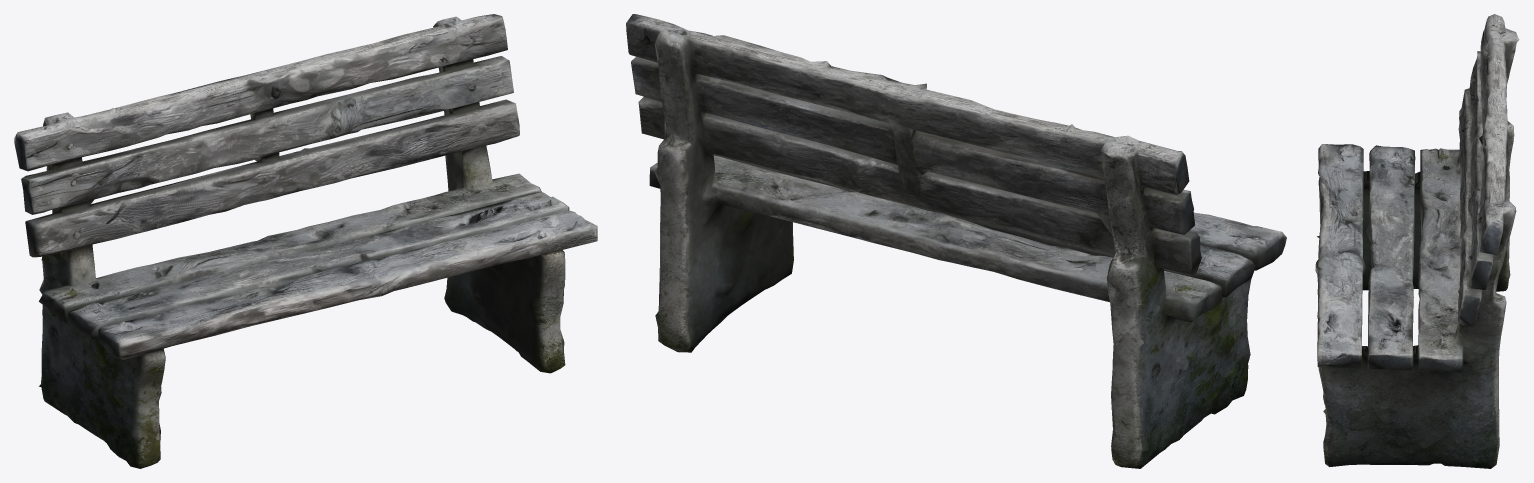
Rendered from park_bench.fbx.
The picture shows the model from 3 angles, left to right: view 1: azimuth 30°, elevation 25°; view 2: azimuth 150°, elevation 25°; view 3: azimuth 270°, elevation 25°; orthographic projection. The views are drawn at different scales.
Visible parts, largest first — view 1: park_bench; view 2: park_bench; view 3: park_bench.
Part boxes in pixels (<box>): park_bench: <box>14,14,597,468</box>; park_bench: <box>626,14,1286,468</box>; park_bench: <box>1315,14,1519,468</box>.
Size of the model in its own units: 1.8 by 1.01 by 0.7247.
Materials: 1 (1 with a texture image).
